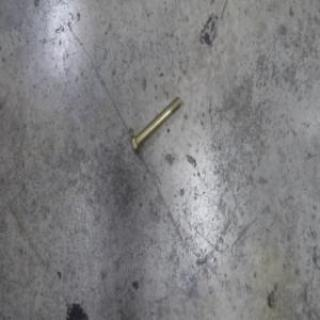Bolttrack_idkeyframe: (130, 94, 183, 154)
